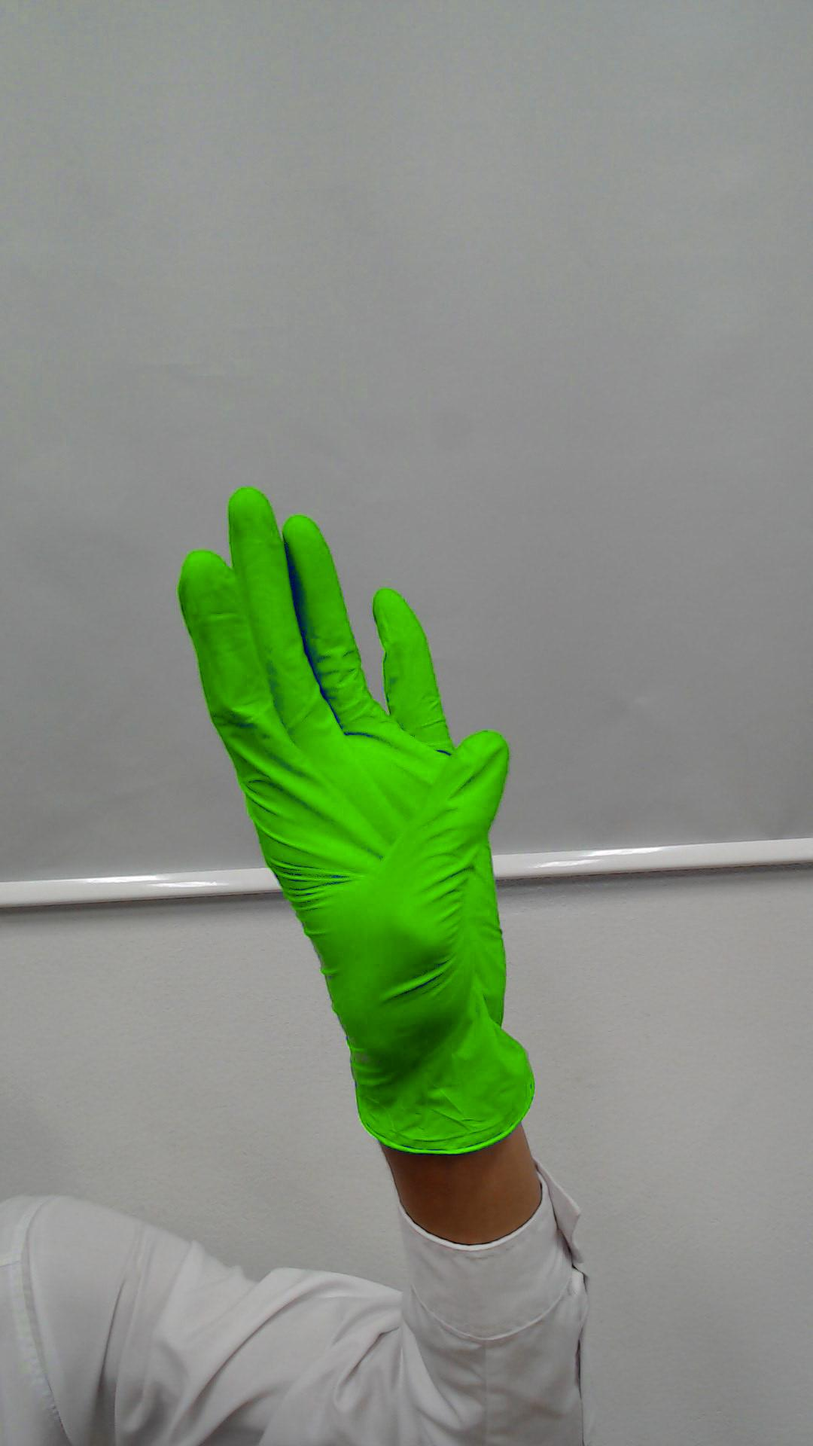gloves: (167, 474, 520, 1036)
